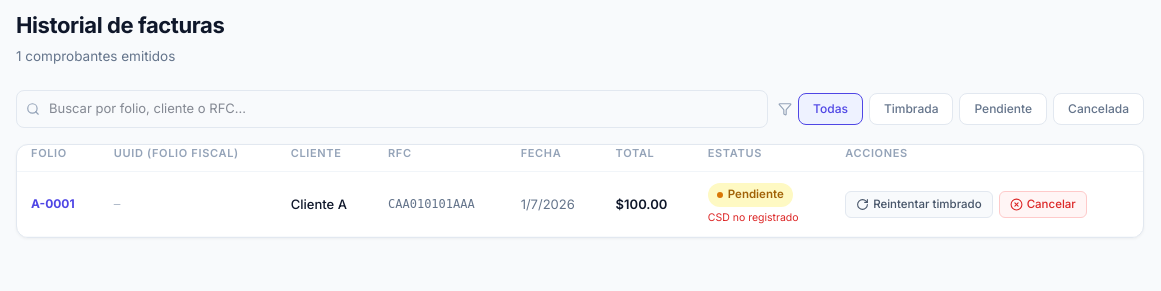
Test: Historial - acciones por estatus › si Reintentar timbrado falla, no se refresca la página
The width and height of the screenshot is (1161, 291).
Click the button "Reintentar timbrado" at (919, 204), box [845,191,993,218]
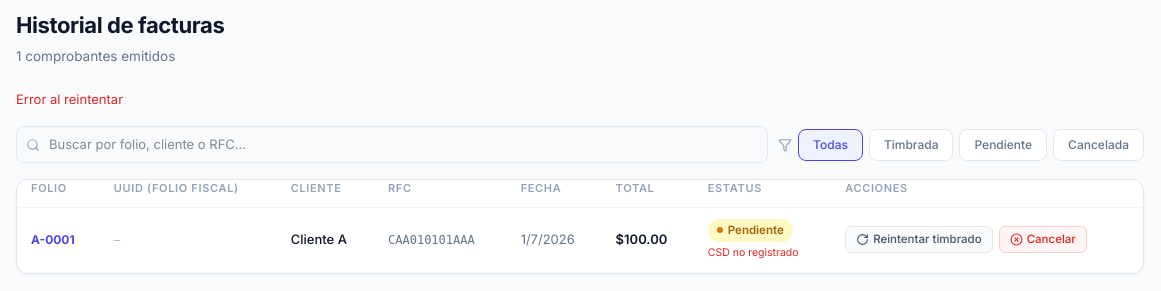
Expected: the text "Error al reintentar" is shown, [16,91,123,107]
